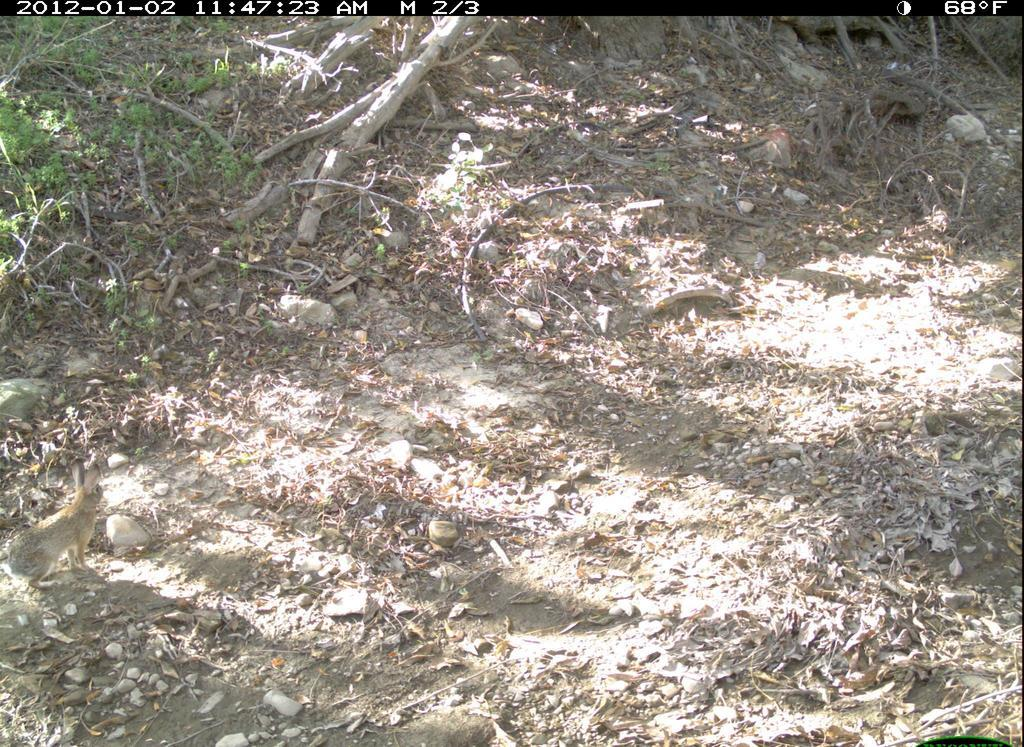rabbit: (7, 444, 120, 606)
